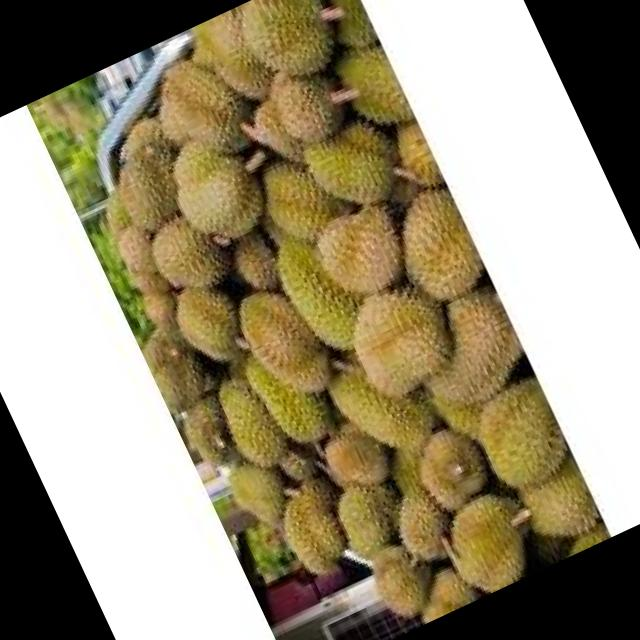fruit: (108, 26, 316, 270), (304, 260, 486, 430), (166, 0, 359, 131), (423, 472, 552, 605)
